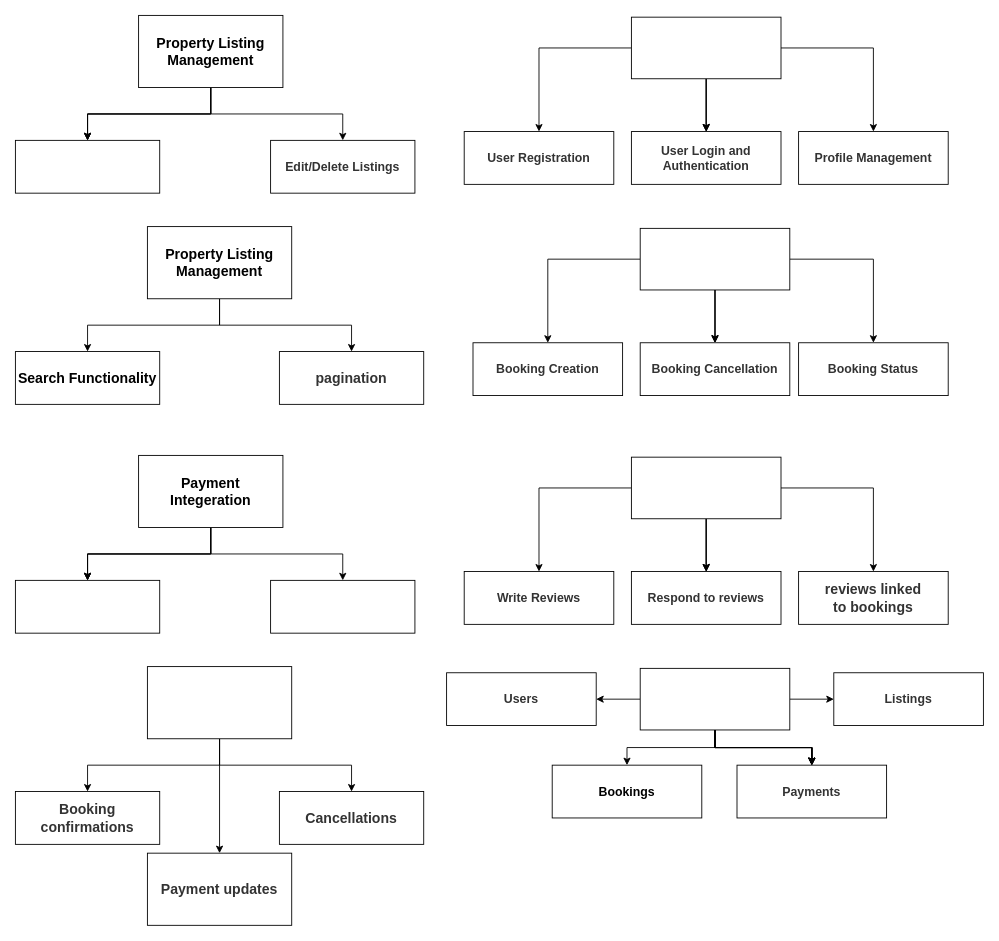
Some shapes in this 999 by 941 pixel diagram are drawn without their labels. The shapes that lost their labels are listed below. From the top down, each one's box as (x1, y1, x2, y2) in pixels, then its label:
(631, 16, 781, 79): User Management
(15, 139, 160, 193): Add Listings
(639, 227, 790, 290): Booking Management
(631, 456, 781, 519): Reviews & Ratings
(15, 579, 160, 633): payment gateways
(270, 579, 415, 633): multiple currencies
(147, 666, 292, 739): Notification System email and in-app notifications
(639, 667, 790, 730): Admin dashboard for monitoring and managing
